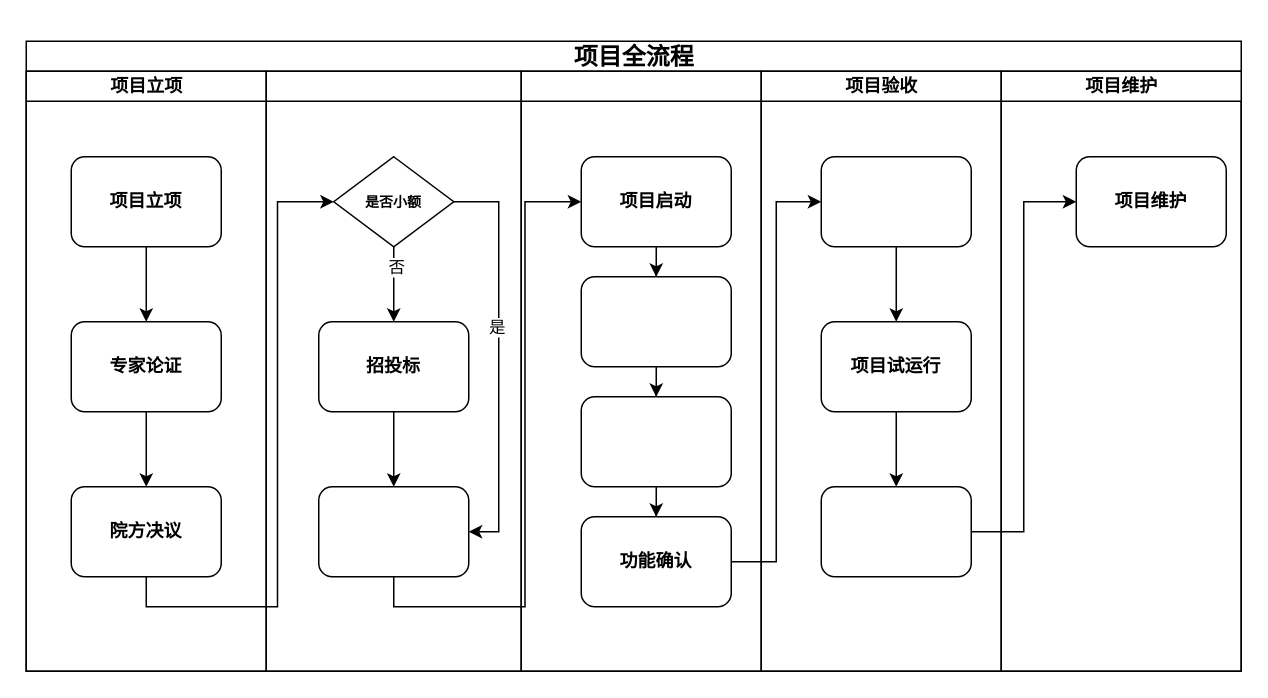
This 1268x698 diagram has some shape labels left out. Here are the shapes that lost their labels. From the top down, the box of each, then its label:
(820, 155, 971, 247): 项目初验
(580, 275, 731, 367): 项目开发
(265, 70, 521, 671): 项目采购
(520, 70, 761, 671): 项目实施
(580, 395, 731, 487): 项目培训
(317, 485, 469, 577): 签订合同
(820, 485, 971, 577): 项目终验
